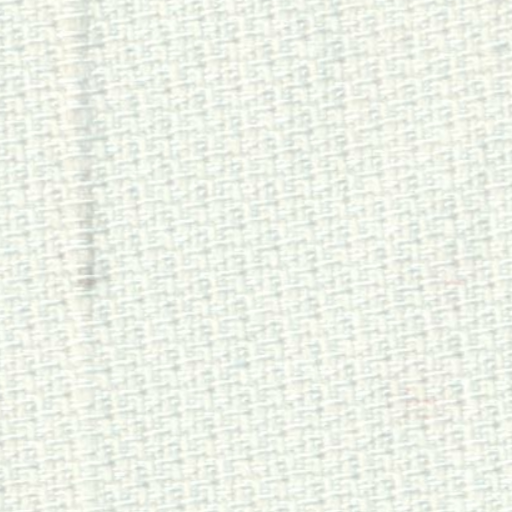DaiSha: (48, 10, 117, 482)
